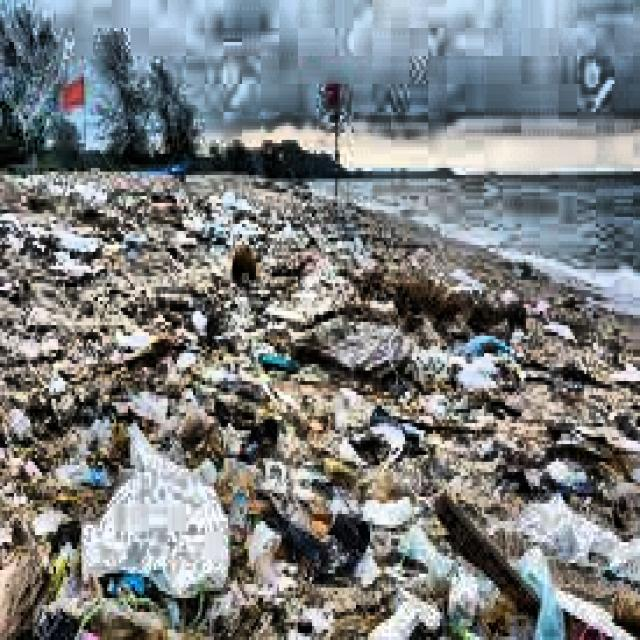garbage: (265, 242, 638, 636), (0, 186, 312, 636)
